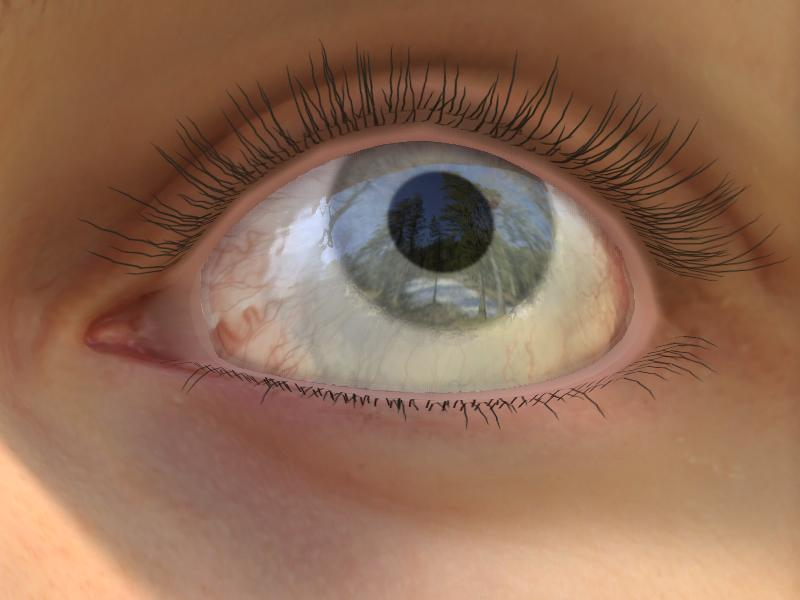eye: (328, 138, 559, 333)
